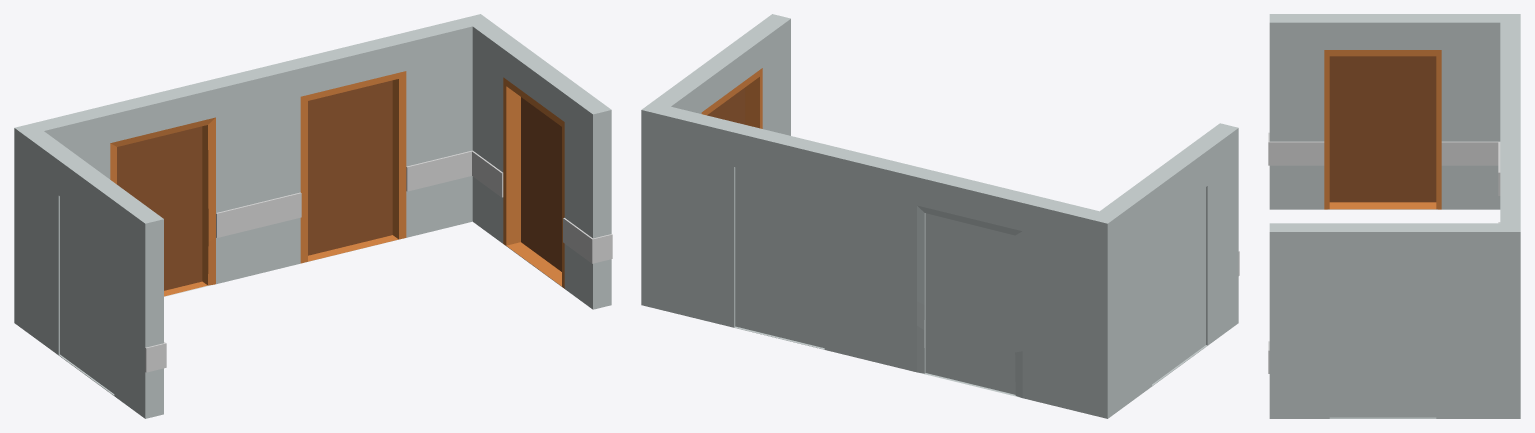
Rendered from bathroomdoor.fbx.
The picture shows the model from 3 angles, left to right: view 1: azimuth 30°, elevation 25°; view 2: azimuth 150°, elevation 25°; view 3: azimuth 270°, elevation 25°; orthographic projection. The views are drawn at different scales.
Visible parts, largest first — view 1: Cube; view 2: Cube; view 3: Cube.
Boxes of the visible parts, x1,y1,x2,y2 form: Cube: (14, 14, 612, 418); Cube: (641, 14, 1239, 418); Cube: (1268, 14, 1520, 418).
Bounding box in the file's own units: 625 × 250 × 306.
